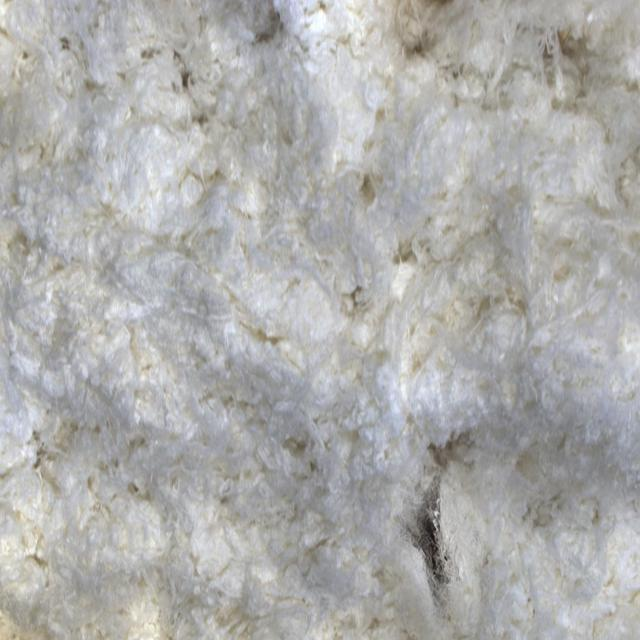dust: (355, 449, 503, 640)
